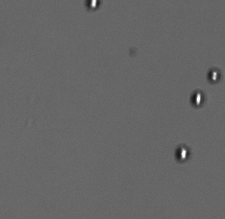Living Cell: (172, 142, 193, 164), (188, 87, 207, 107), (205, 68, 221, 83), (84, 1, 104, 10)
